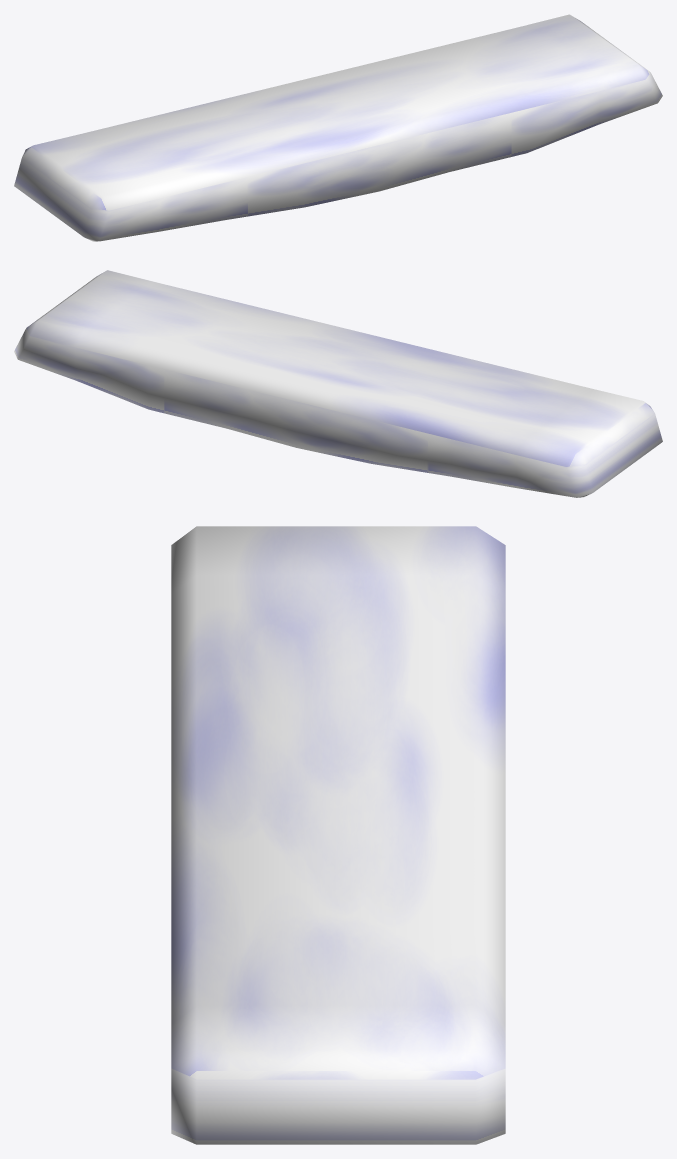
File: rd_a41_snow.obj
3 renders of one model, top to bottom at view 1: azimuth 30°, elevation 25°; view 2: azimuth 150°, elevation 25°; view 3: azimuth 270°, elevation 25°, orthographic. The views are drawn at different scales.
Visible parts, largest first — view 1: polySurface5; view 2: polySurface5; view 3: polySurface5.
Boxes of the visible parts, box(x1,y1,x2,y2) form: polySurface5: box(14, 14, 662, 241); polySurface5: box(14, 270, 662, 497); polySurface5: box(171, 526, 505, 1144).
Size of the model in its own units: 420 by 42.34 by 105.
Materials: 2 (2 with a texture image).
